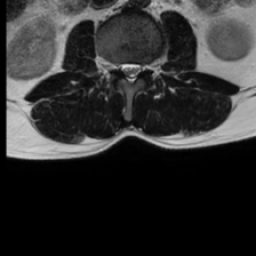CCS_normal: (126, 55, 133, 87)
LFS_normal: (141, 55, 149, 76)
LLS_normal: (134, 57, 141, 80)
RFS_stenosis: (111, 56, 120, 77)
RLS_normal: (119, 56, 126, 79)
